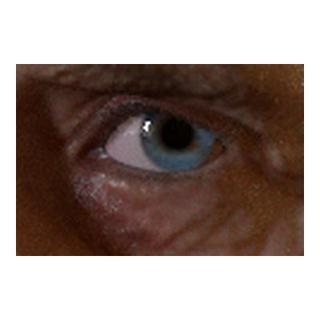pupil: (163, 119, 193, 149)
